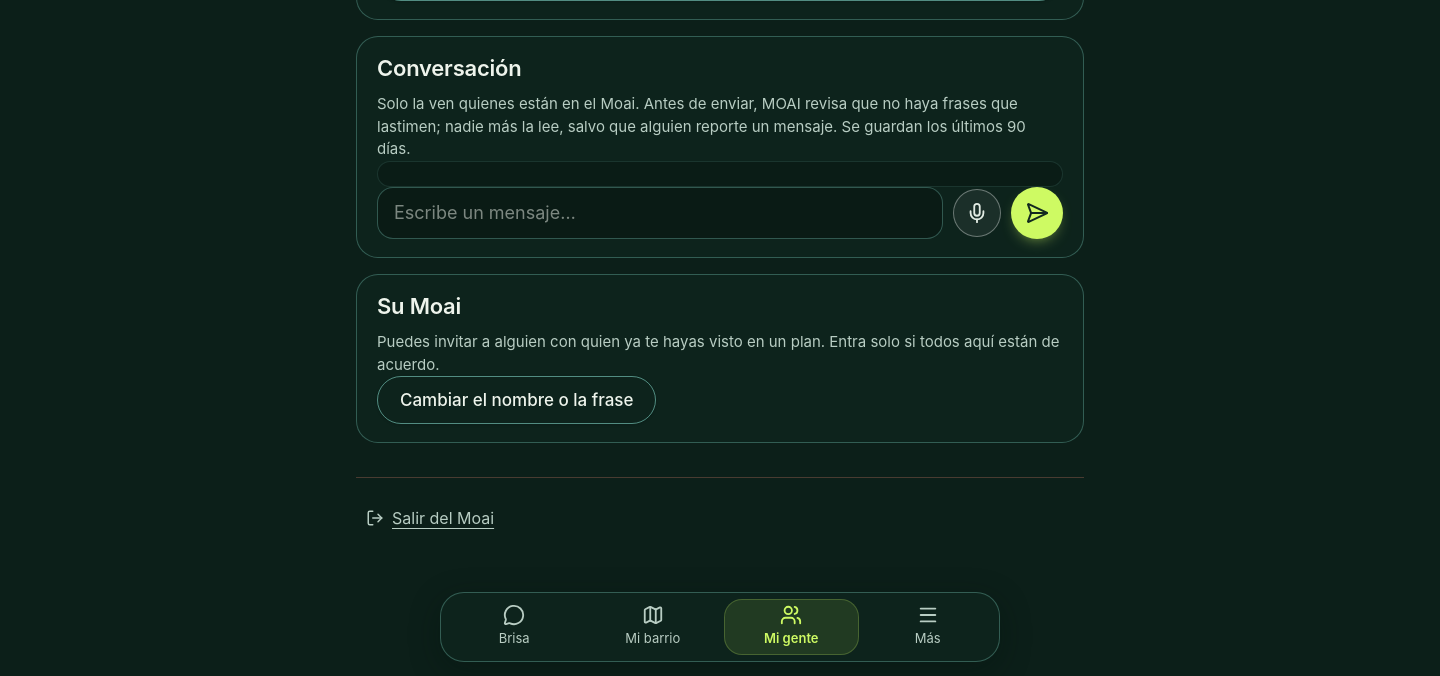
Scenario: Un Moai por dentro (19 de octubre) › el nombre y la frase se cambian juntos, y salir del Moai pide confirmar
(page scrolled)
Click the button "Cambiar el nombre o la frase" at [517, 400], box [377,376,656,424]
(page scrolled)
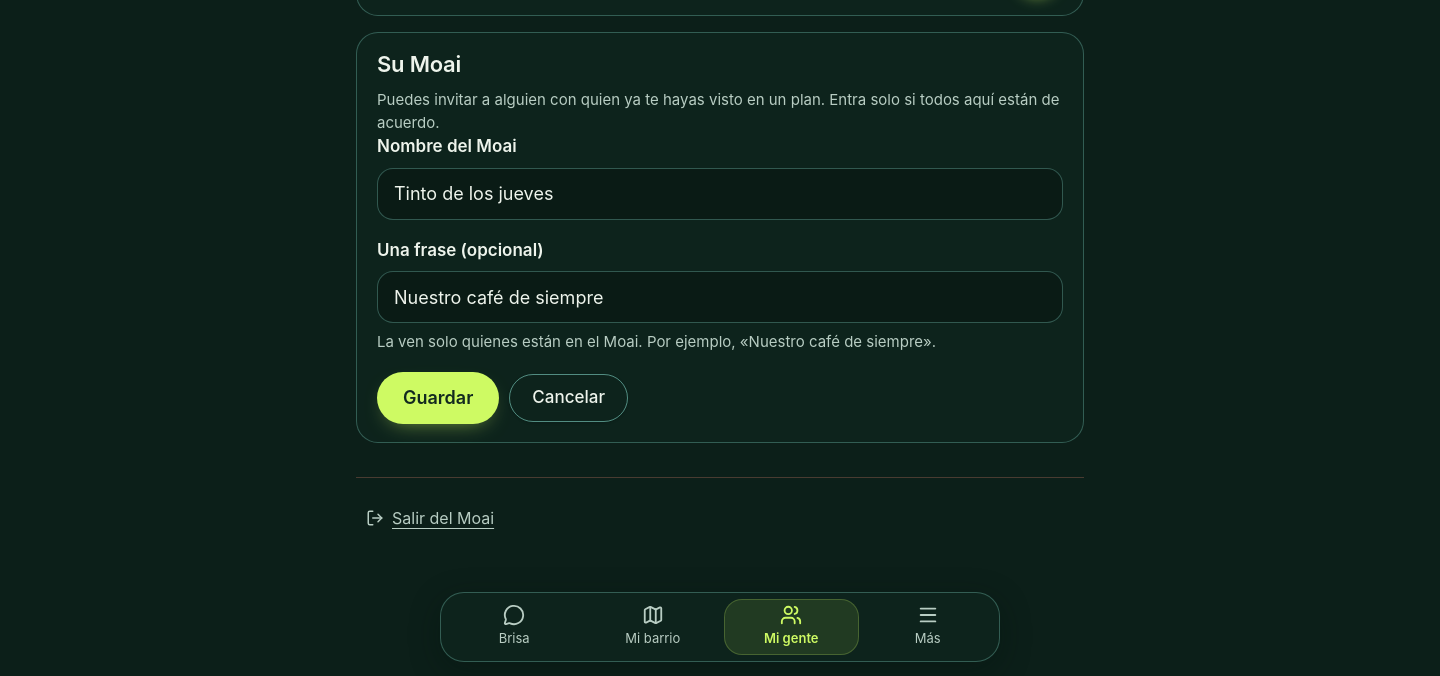
Replace the text in the field labelled "Una frase (opcional)" with "Los jueves a las 9" at [720, 297], box [377,271,1063,323]
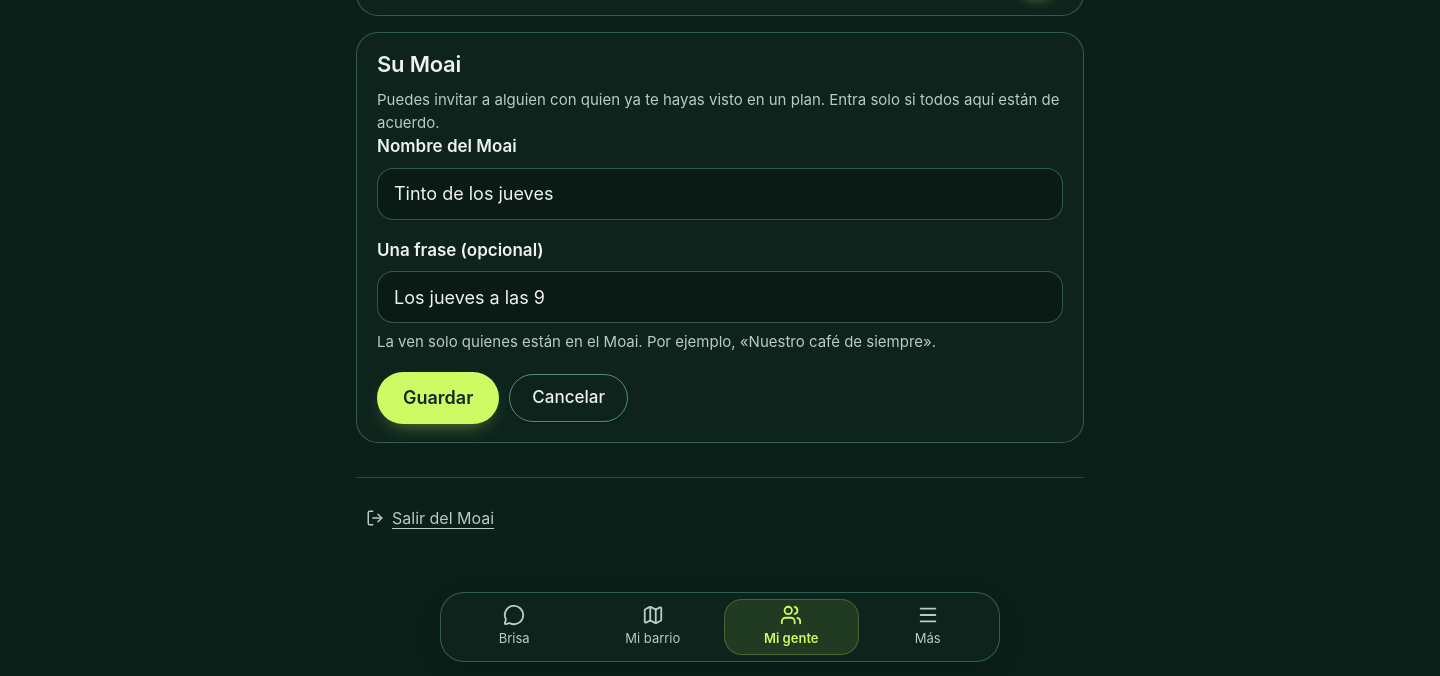
Click the button "Guardar" at [438, 398], box [377,372,499,424]
(page scrolled)
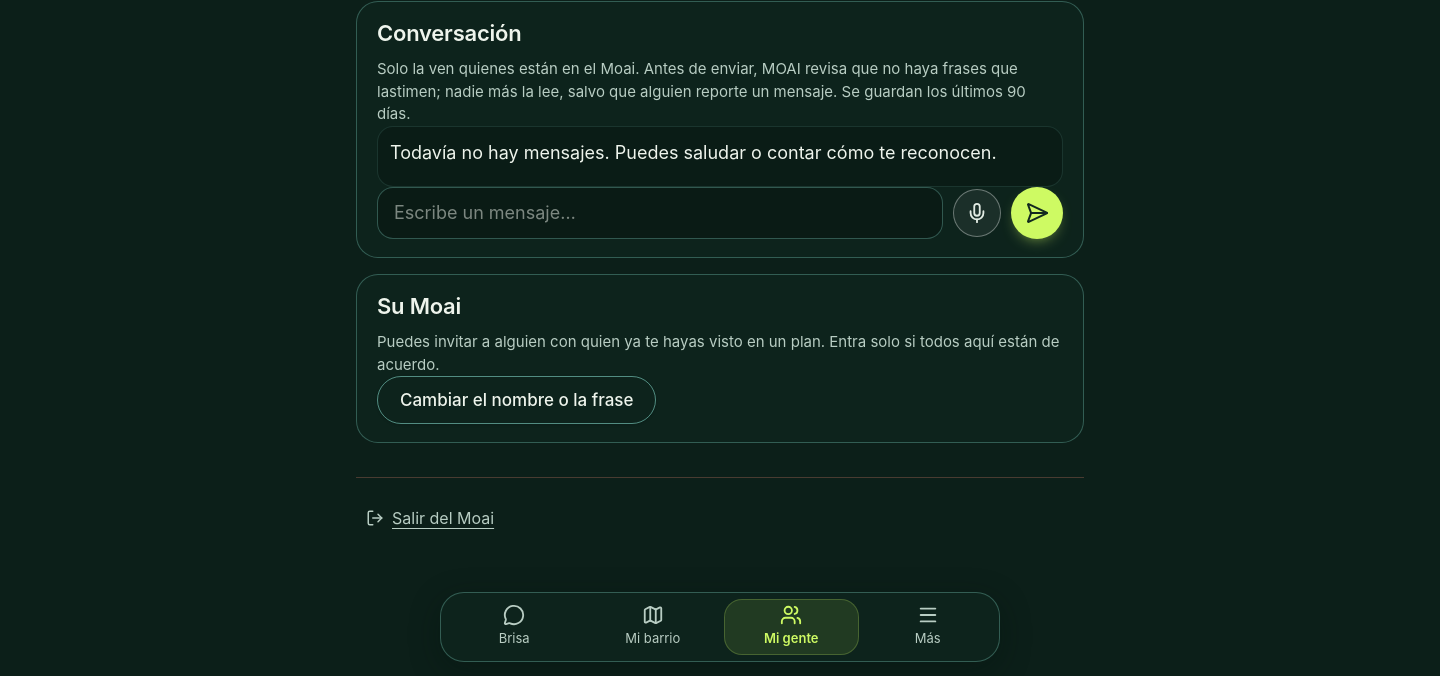
Click the button "Salir del Moai" at [430, 518], box [356,496,504,540]
(page scrolled)
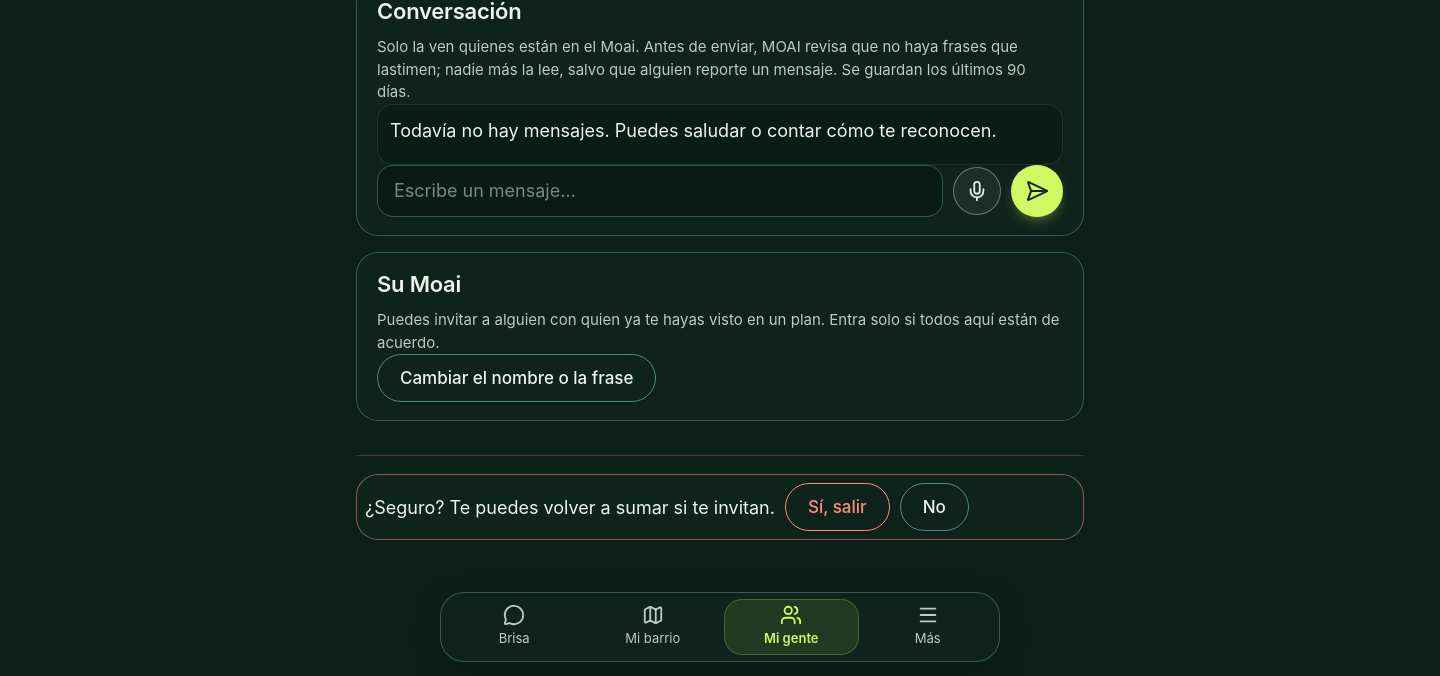
Now the button "Sí, salir" is shown, box [785,483,890,531]
